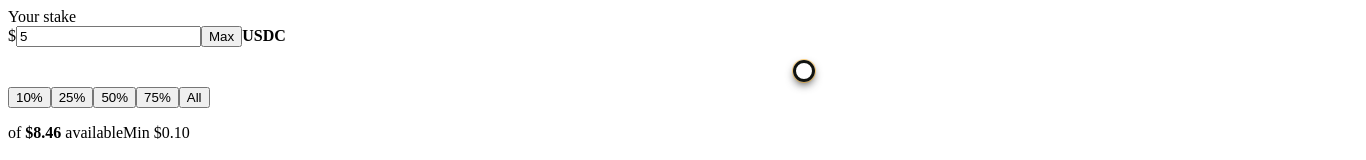
amount controls › offers shares of the balance as chips, marks the one in use, and uses Max inside the input
Click the button "50%" at (115, 98), box [93,87,136,108]
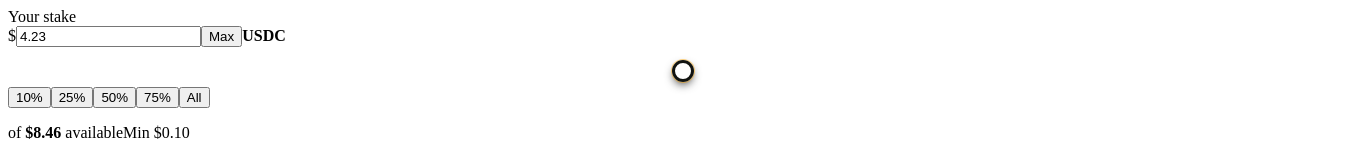
expect the number field with id "round-amount" holds "4.23": met, box [16,26,201,47]
expect the slider named "Stake amount" holds "4.23": met, box [10,55,1356,87]
Click the button "All" at (194, 98), box [179,87,210,108]
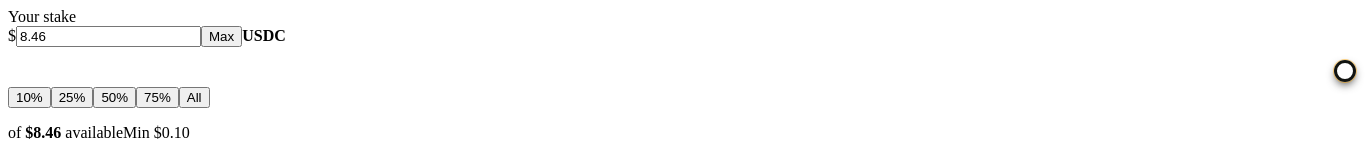
expect the number field with id "round-amount" holds "8.46": met
Replace the text in the number field with id "round-amount" with "1" at (108, 36), box [16,26,201,47]
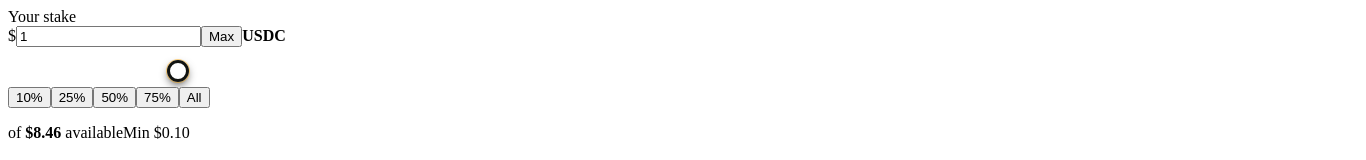
Click the button "Max" at (222, 36), box [201,26,242,47]
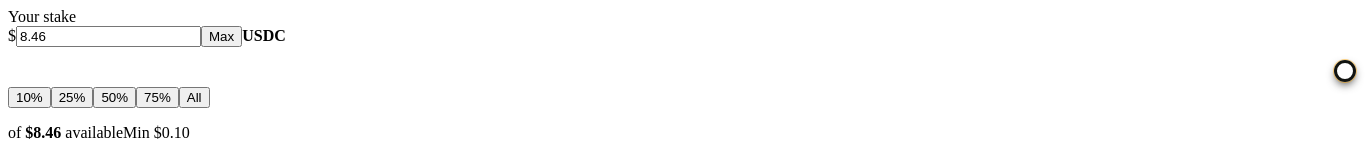
expect the number field with id "round-amount" holds "8.46": met, box [16,26,201,47]
